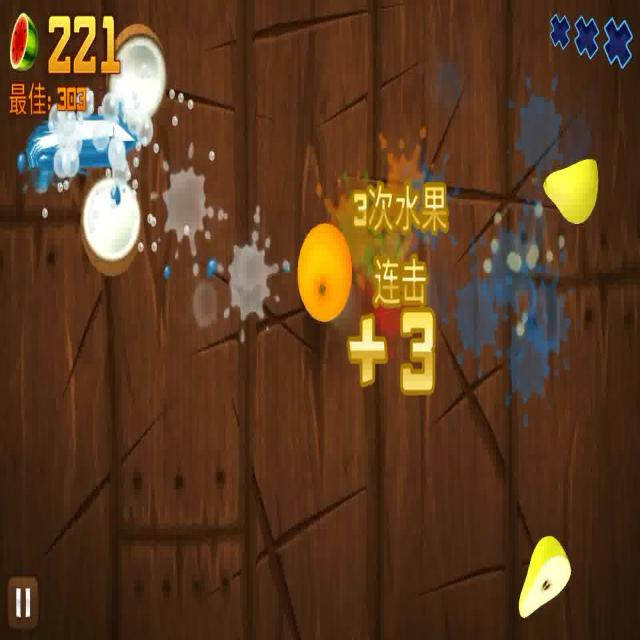fruit: (82, 180, 142, 277), (106, 25, 166, 121), (298, 221, 351, 328), (518, 537, 570, 618), (541, 157, 599, 224)
